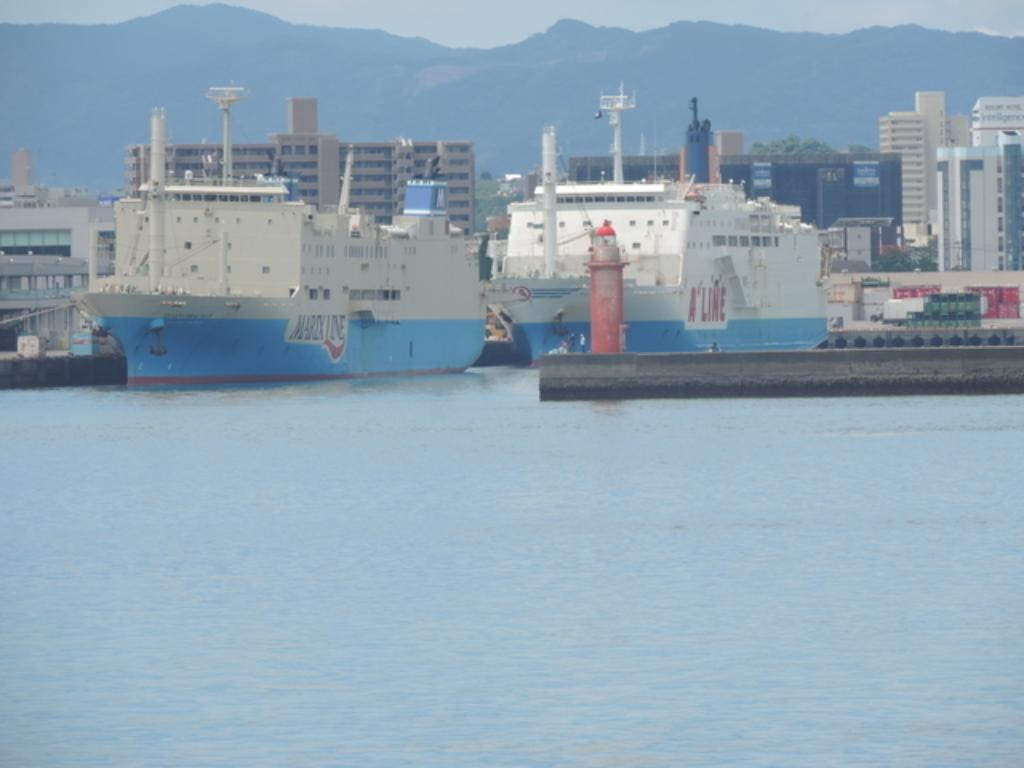PassengerShip: (74, 90, 486, 370), (484, 85, 842, 351)
